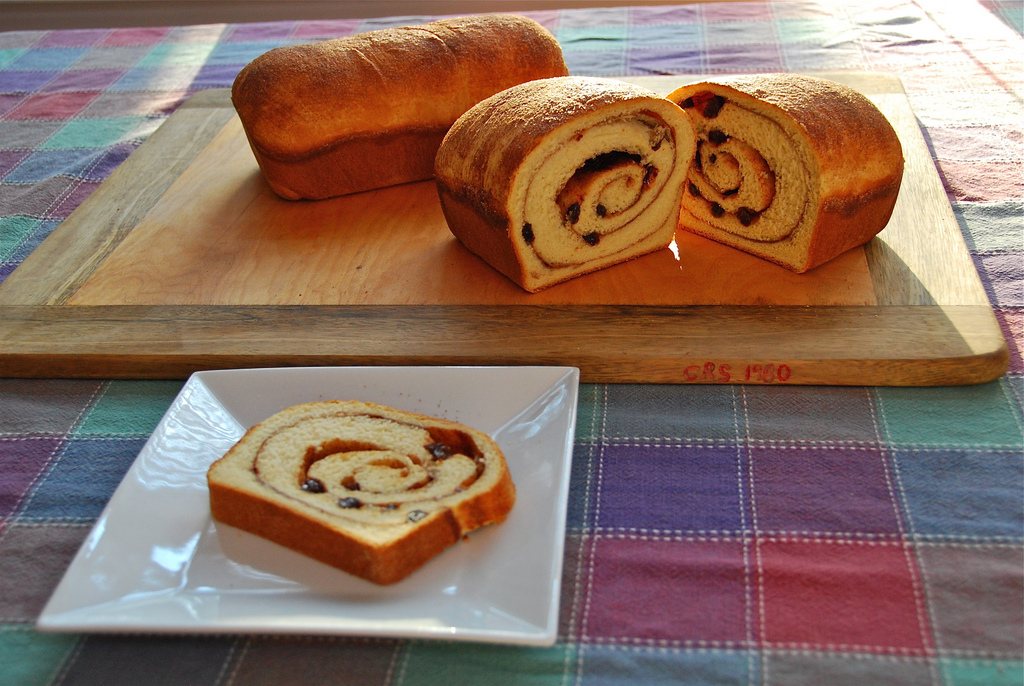slice of bread: (210, 9, 587, 206), (203, 397, 523, 587), (430, 77, 697, 296), (655, 57, 909, 280)
